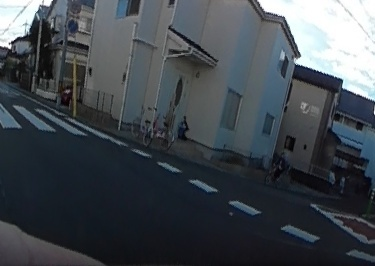person: (271, 149, 287, 180)
